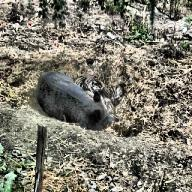boar: (34, 70, 120, 131)
